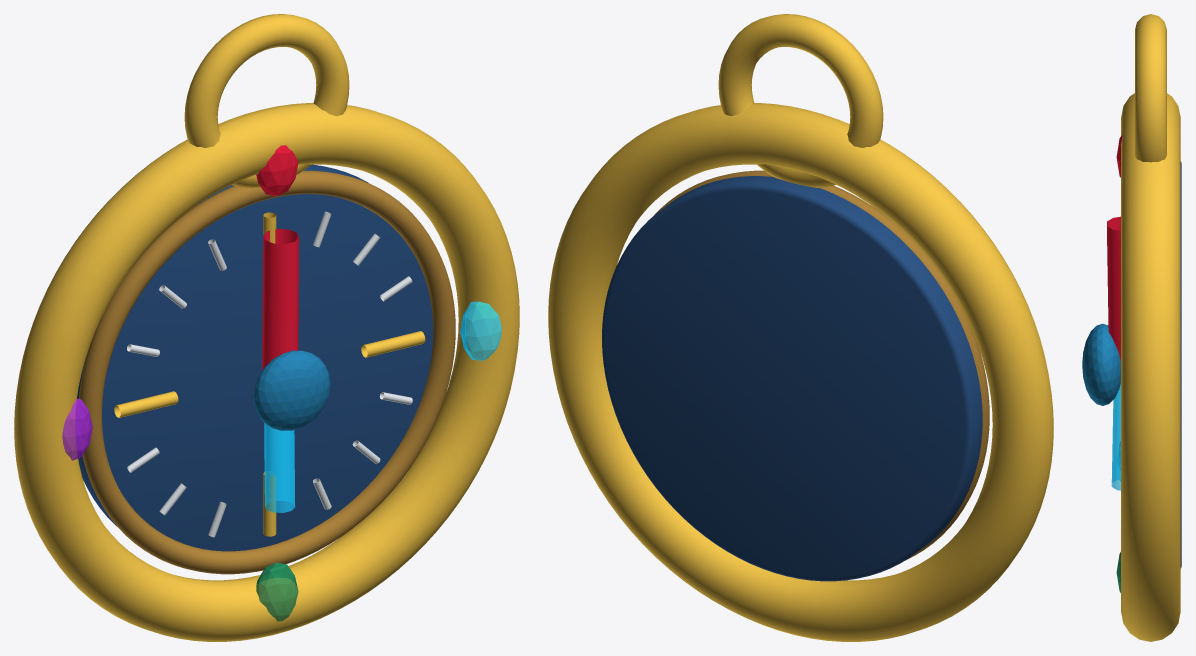
The model's file is compass.glb.
The picture shows the model from 3 angles, left to right: view 1: azimuth 30°, elevation 25°; view 2: azimuth 150°, elevation 25°; view 3: azimuth 270°, elevation 25°; orthographic projection. The views are drawn at different scales.
Parts seen in each view (by area): view 1: treasure-compass-sovereign-outer-gold-bezel, treasure-compass-lapis-enamel-dial, treasure-compass-chased-inner-gold-bezel, treasure-compass-royal-suspension-ring, treasure-compass-central-sapphire-pivot, treasure-compass-ruby-north-needle, treasure-compass-aquamarine-south-needle, treasure-compass-cardinal-jewel.001, treasure-compass-cardinal-jewel.002, treasure-compass-cardinal-jewel, treasure-compass-cardinal-jewel.003, treasure-compass-engraved-cardinal-ray.004 (+1 smaller); view 2: treasure-compass-lapis-enamel-dial, treasure-compass-sovereign-outer-gold-bezel, treasure-compass-royal-suspension-ring, treasure-compass-chased-inner-gold-bezel; view 3: treasure-compass-sovereign-outer-gold-bezel, treasure-compass-royal-suspension-ring, treasure-compass-central-sapphire-pivot, treasure-compass-ruby-north-needle, treasure-compass-lapis-enamel-dial, treasure-compass-aquamarine-south-needle.
Part boxes in pixels (box(x1,y1,x2,y2)): treasure-compass-sovereign-outer-gold-bezel: box(14, 103, 519, 641); treasure-compass-lapis-enamel-dial: box(77, 164, 433, 551); treasure-compass-chased-inner-gold-bezel: box(79, 170, 455, 574); treasure-compass-royal-suspension-ring: box(184, 14, 349, 188); treasure-compass-central-sapphire-pivot: box(253, 350, 330, 430); treasure-compass-ruby-north-needle: box(262, 228, 299, 370); treasure-compass-aquamarine-south-needle: box(264, 423, 295, 512); treasure-compass-cardinal-jewel.001: box(460, 301, 501, 360); treasure-compass-cardinal-jewel.002: box(256, 562, 298, 621); treasure-compass-cardinal-jewel: box(256, 145, 298, 196); treasure-compass-cardinal-jewel.003: box(62, 398, 92, 460); treasure-compass-engraved-cardinal-ray.004: box(361, 331, 425, 357); treasure-compass-lapis-enamel-dial: box(602, 176, 982, 581); treasure-compass-sovereign-outer-gold-bezel: box(548, 103, 1053, 641); treasure-compass-royal-suspension-ring: box(718, 14, 883, 187); treasure-compass-chased-inner-gold-bezel: box(654, 170, 989, 560); treasure-compass-sovereign-outer-gold-bezel: box(1121, 93, 1180, 641); treasure-compass-royal-suspension-ring: box(1135, 14, 1166, 162); treasure-compass-central-sapphire-pivot: box(1082, 323, 1120, 405); treasure-compass-ruby-north-needle: box(1107, 216, 1120, 361); treasure-compass-lapis-enamel-dial: box(1180, 161, 1181, 568); treasure-compass-aquamarine-south-needle: box(1111, 383, 1120, 490).
Size of the model in its own units: 1.21 by 1.43 by 0.2175.
